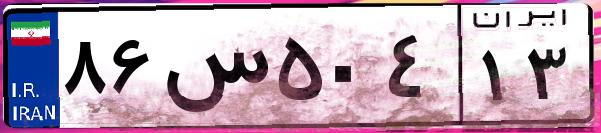0: (330, 28, 385, 110)
1: (475, 38, 525, 113)
3: (525, 38, 570, 115)
4: (385, 28, 445, 110)
5: (270, 28, 330, 110)
6: (110, 28, 158, 98)
8: (57, 26, 110, 100)
س: (158, 20, 270, 120)
